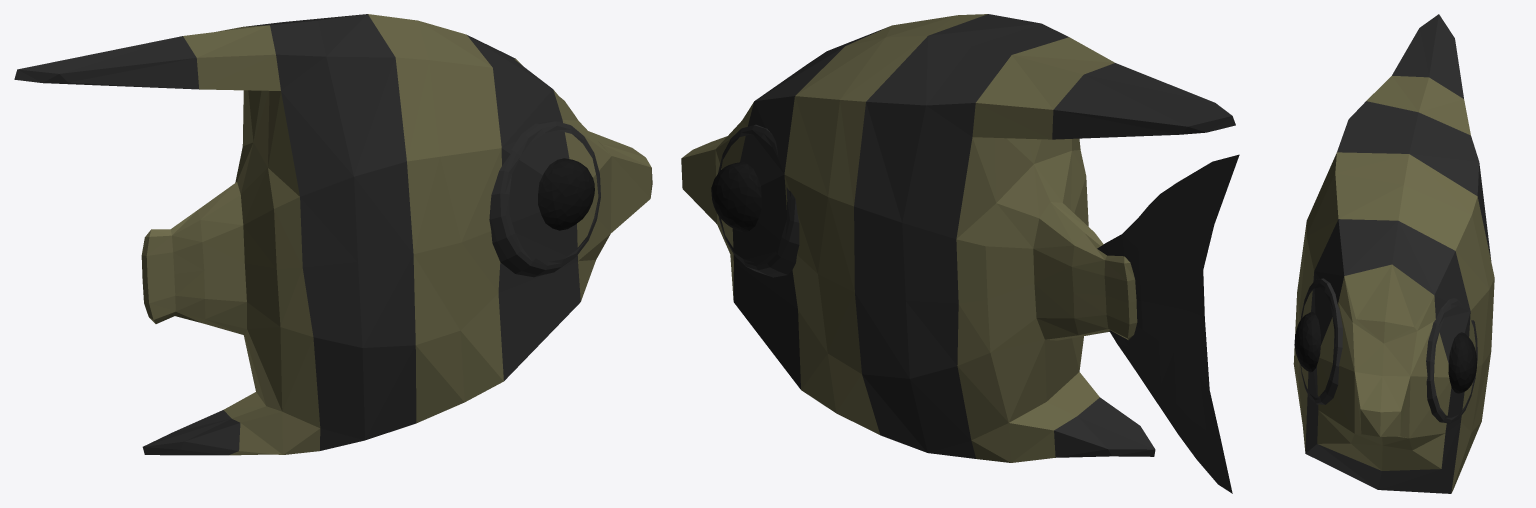
The model's file is angelfish.glb.
3 views of the same model, side by side, from view 1: azimuth 30°, elevation 25°; view 2: azimuth 150°, elevation 25°; view 3: azimuth 270°, elevation 25° (orthographic). The views are drawn at different scales.
Parts seen in each view (by area): view 1: angelfish; view 2: angelfish; view 3: angelfish.
Boxes of the visible parts, <box> form: angelfish: <box>14,14,652,455</box>; angelfish: <box>681,14,1239,493</box>; angelfish: <box>1293,14,1494,493</box>.
Bounding box in the file's own units: 0.6375 × 0.4254 × 0.2891.
